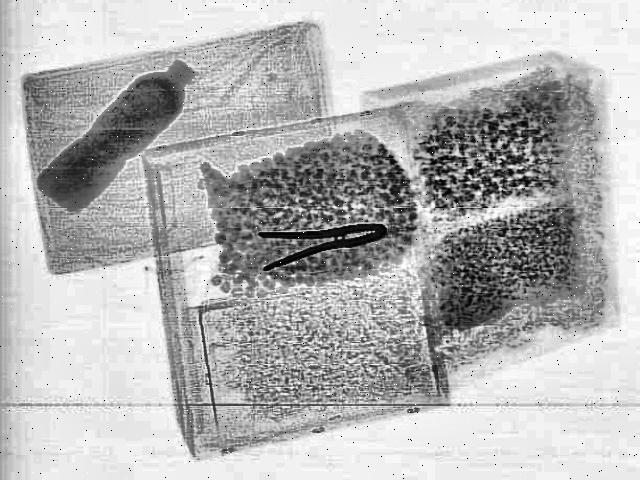Pliers: (247, 212, 391, 274)
